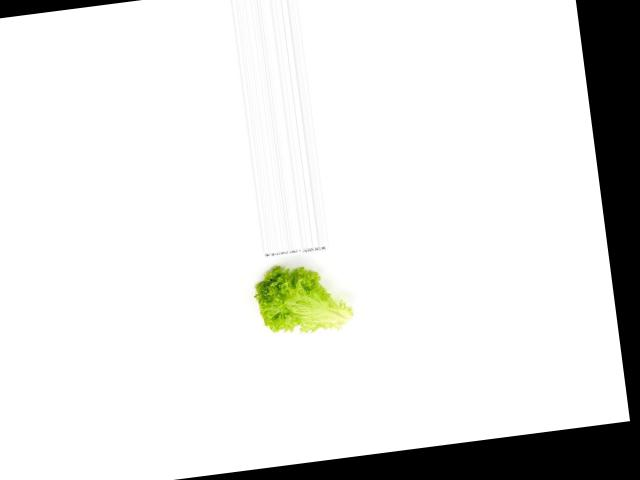lettuce: (247, 257, 354, 343)
